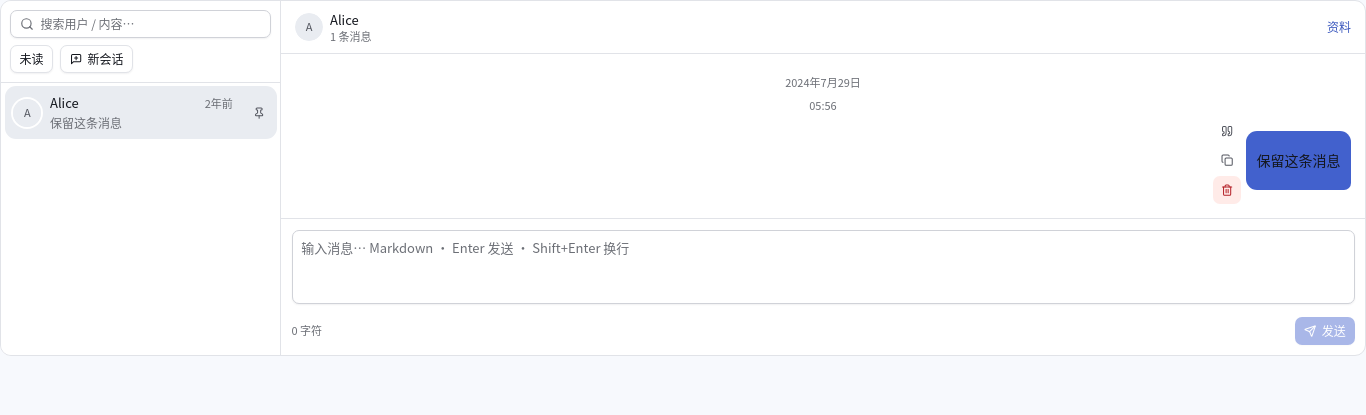
Test: user account message failures › shows the authoritative send error and keeps the draft
Type "不要丢失的草稿" into the text box with placeholder "输入消息… Markdown · Enter 发送 · Shift+Enter 换行" at {"x": 823, "y": 267}, box left=292, top=230, right=1354, bottom=304
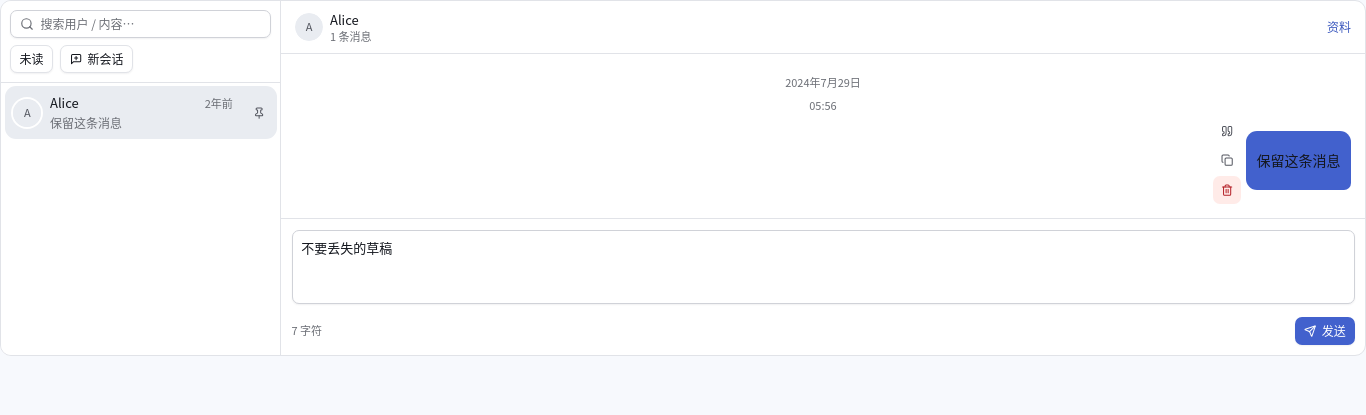
Click the button "发送" at {"x": 1325, "y": 331}, box left=1296, top=317, right=1354, bottom=345
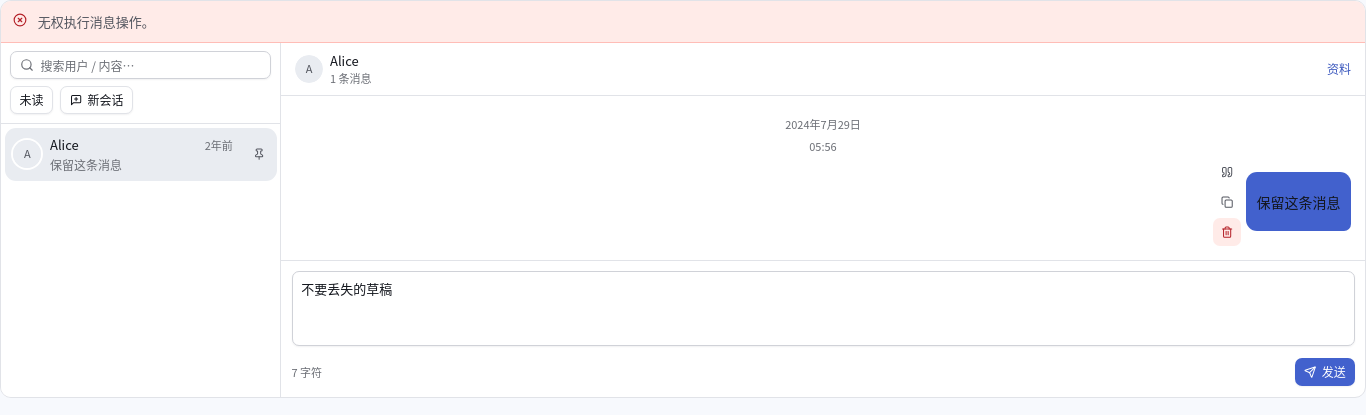
expect the message reads "无权执行消息操作。": met, box left=38, top=12, right=155, bottom=30
